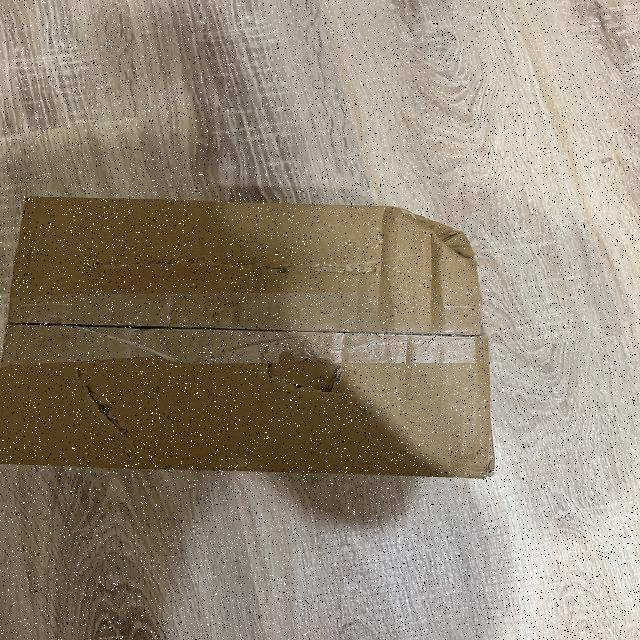damaged: (0, 194, 501, 476), (83, 245, 409, 292), (57, 356, 170, 463), (248, 335, 374, 406), (389, 194, 490, 281)
